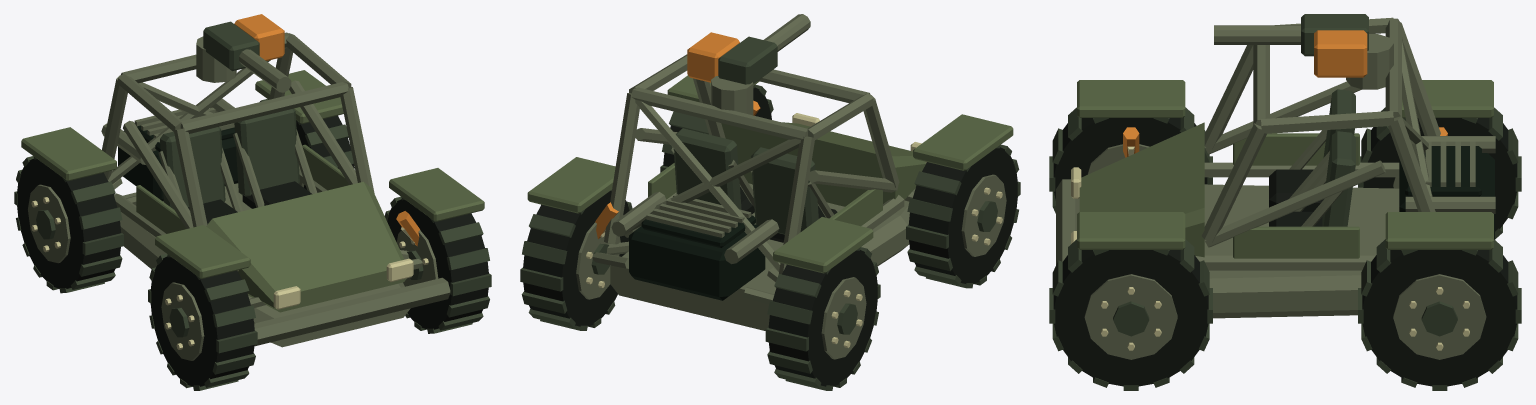
The model's file is buggy.obj.
3 renders of one model, left to right at view 1: azimuth 30°, elevation 25°; view 2: azimuth 150°, elevation 25°; view 3: azimuth 270°, elevation 25°, orthographic. The views are drawn at different scales.
Visible parts, largest first — view 1: Body.001, Wheel_-0.85_-0.84, Wheel_-0.85_0.84, Wheel_0.85_-0.84, WeaponPitch, Wheel_0.85_0.84; view 2: Body.001, Wheel_-0.85_0.84, Wheel_-0.85_-0.84, Wheel_0.85_0.84, WeaponPitch, Wheel_0.85_-0.84; view 3: Body.001, Wheel_0.85_-0.84, Wheel_0.85_0.84, WeaponPitch, Wheel_-0.85_-0.84, Wheel_-0.85_0.84.
Boxes of the visible parts, box(x1,y1,x2,y2) form: Body.001: box(21, 32, 484, 347); Wheel_-0.85_-0.84: box(148, 254, 257, 390); Wheel_-0.85_0.84: box(14, 156, 123, 293); Wheel_0.85_-0.84: box(384, 196, 491, 333); WeaponPitch: box(203, 14, 291, 92); Wheel_0.85_0.84: box(260, 99, 354, 189); Body.001: box(527, 54, 1013, 330); Wheel_-0.85_0.84: box(765, 247, 880, 390); Wheel_-0.85_-0.84: box(906, 144, 1020, 288); Wheel_0.85_0.84: box(520, 190, 632, 330); WeaponPitch: box(687, 14, 810, 84); Wheel_0.85_-0.84: box(660, 84, 773, 172); Body.001: box(1056, 17, 1495, 318); Wheel_0.85_-0.84: box(1049, 239, 1212, 390); Wheel_0.85_0.84: box(1358, 239, 1521, 390); WeaponPitch: box(1214, 14, 1368, 77); Wheel_-0.85_-0.84: box(1049, 107, 1212, 213); Wheel_-0.85_0.84: box(1358, 107, 1521, 239).
Size of the model in its own units: 3.31 by 2.83 by 4.12.
1 material, 1 textured.
